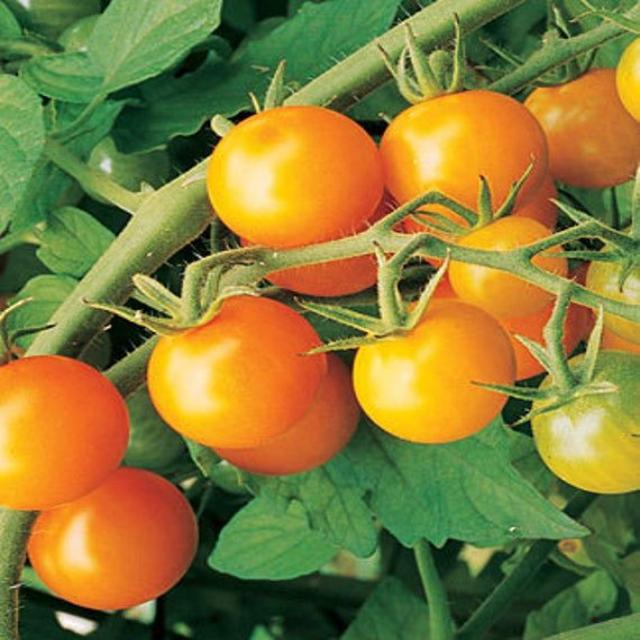level 3: (533, 353, 640, 500)
level 4: (150, 295, 324, 452), (434, 218, 595, 372), (212, 105, 381, 251), (246, 152, 409, 295), (354, 306, 514, 449), (384, 94, 551, 224), (520, 66, 640, 192)
level 5: (21, 466, 198, 604), (0, 351, 128, 514), (204, 342, 357, 476)
